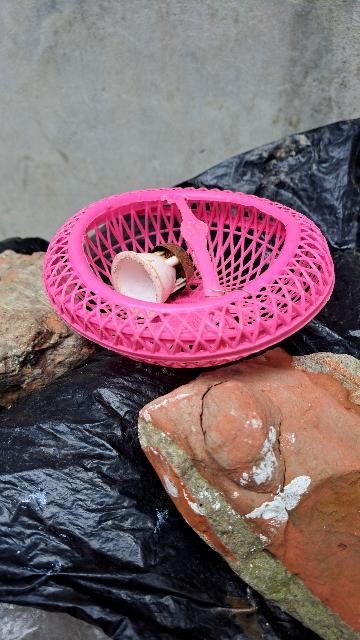hardplastic: (38, 189, 342, 364)
